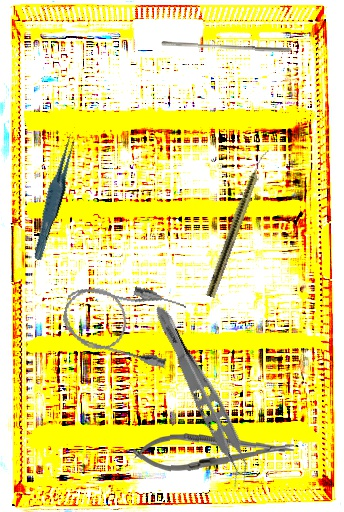Cannula: (56, 270, 189, 371)
Handpiece: (205, 147, 270, 299)
Needle Holder: (132, 429, 295, 474)
Pusher: (160, 40, 293, 53)
Tissue Forceps: (138, 301, 262, 490), (24, 131, 87, 262)
